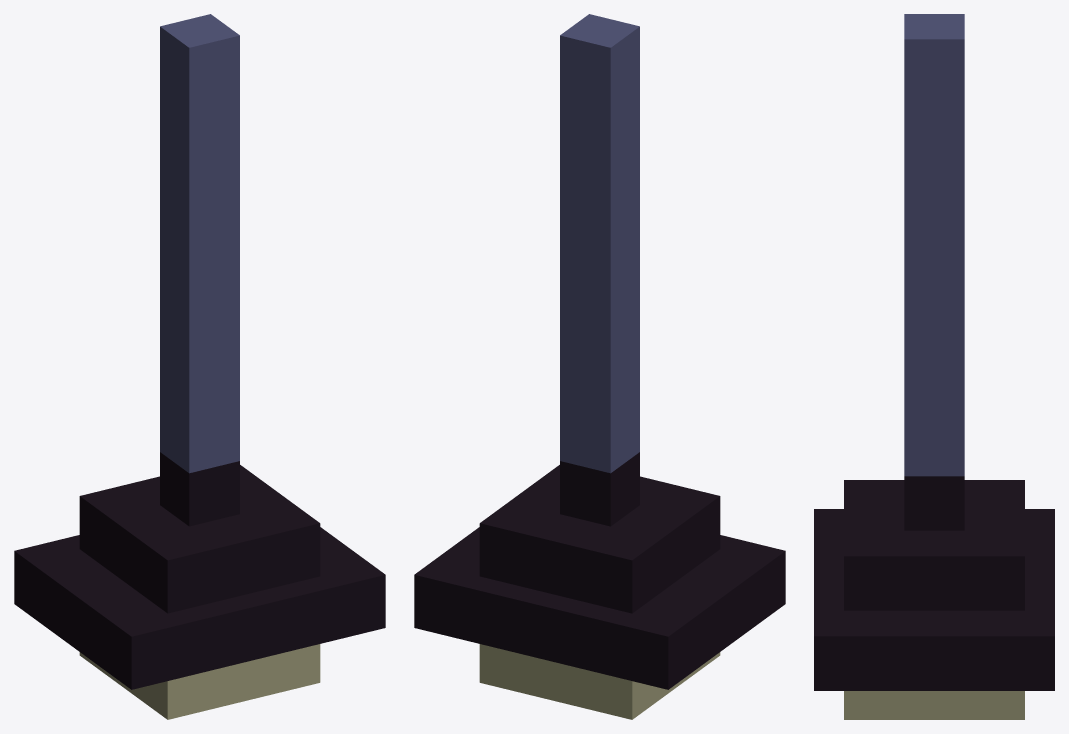
File: Hanging Lamp.glb
The picture shows the model from 3 angles, left to right: view 1: azimuth 30°, elevation 25°; view 2: azimuth 150°, elevation 25°; view 3: azimuth 270°, elevation 25°; orthographic projection. The views are drawn at different scales.
Visible parts, largest first — view 1: generated(Clone); view 2: generated(Clone); view 3: generated(Clone).
Part boxes in pixels (left/top/right/bottom): generated(Clone): left=14, top=14, right=385, bottom=719; generated(Clone): left=414, top=14, right=785, bottom=719; generated(Clone): left=814, top=14, right=1054, bottom=719.
Bounding box in the file's own units: 5 × 12 × 4.
Materials: 1 (1 with a texture image).
